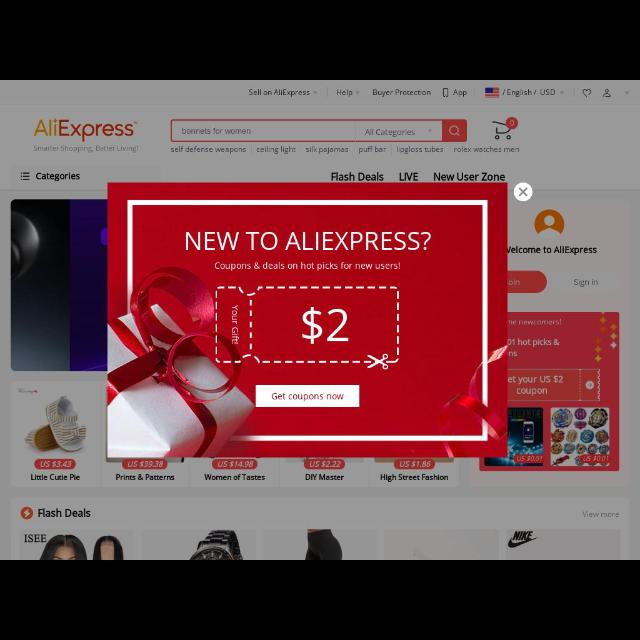button: (443, 120, 467, 140)
icon: (20, 170, 32, 182), (603, 88, 613, 98), (442, 86, 450, 98), (354, 89, 362, 97), (583, 89, 591, 97), (312, 88, 318, 96), (427, 128, 433, 134), (624, 90, 630, 96), (560, 90, 564, 96)
iframe: (107, 180, 533, 462)
image: (10, 200, 106, 372), (13, 384, 105, 456), (486, 408, 546, 468), (551, 407, 609, 468), (35, 118, 139, 138), (534, 212, 566, 240), (492, 118, 520, 142), (507, 527, 537, 549), (20, 506, 34, 522), (485, 88, 499, 98)
input: (171, 118, 467, 140)
multitab: (171, 147, 524, 153)
spinner: (356, 122, 442, 138), (248, 85, 322, 102), (502, 87, 570, 99), (328, 84, 366, 102)
text: (508, 374, 566, 394), (34, 144, 140, 152), (507, 245, 599, 253), (181, 127, 253, 137), (379, 473, 448, 483), (250, 88, 312, 99), (372, 88, 432, 98), (114, 474, 176, 482), (206, 473, 266, 481), (170, 147, 248, 153), (504, 88, 558, 96), (38, 509, 90, 517), (365, 128, 417, 136), (395, 145, 447, 153), (31, 473, 80, 481), (38, 173, 82, 181), (255, 145, 297, 153), (508, 320, 562, 326), (583, 510, 619, 518), (306, 474, 346, 481), (453, 148, 521, 152), (359, 146, 387, 154), (573, 279, 599, 287), (336, 88, 354, 99), (305, 148, 349, 152), (452, 90, 468, 98)
textbutton: (508, 270, 548, 294)
toolbar: (7, 81, 639, 102)
